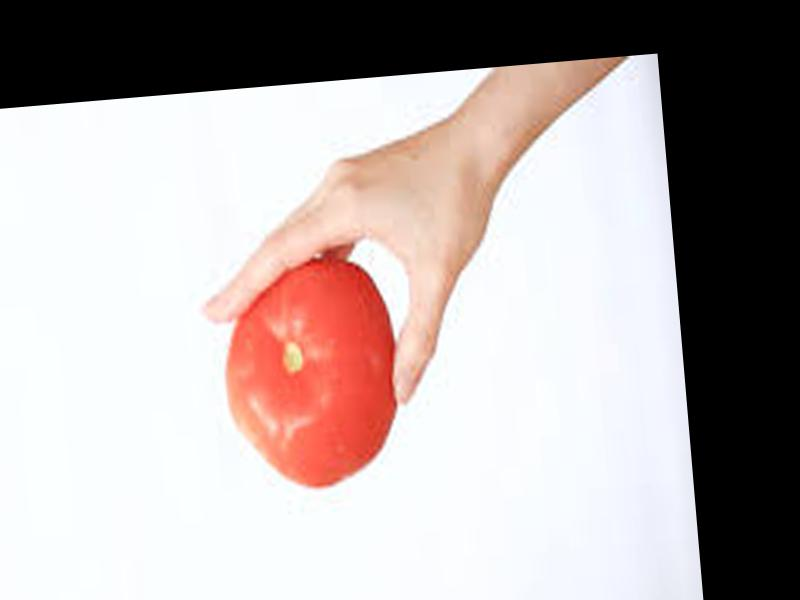Tomato: (216, 258, 405, 493)
